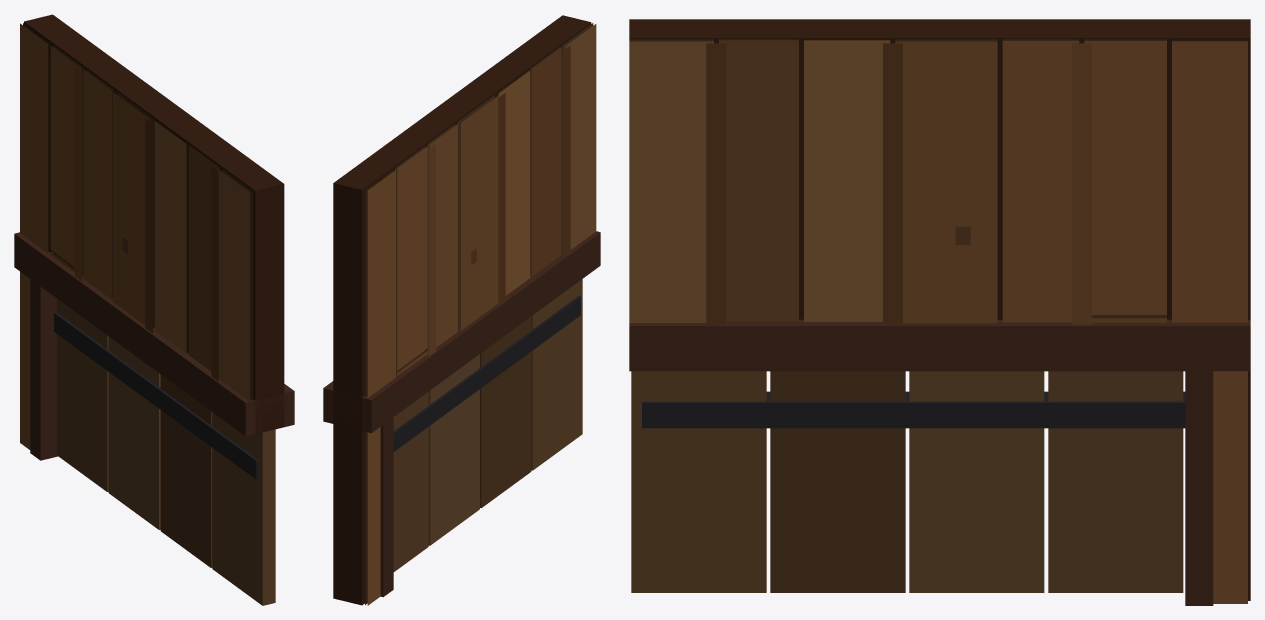
File: wall-timber-door-shut-high-l.glb
3 renders of one model, left to right at view 1: azimuth 30°, elevation 25°; view 2: azimuth 150°, elevation 25°; view 3: azimuth 270°, elevation 25°, orthographic. The views are drawn at different scales.
Visible parts, largest first — view 1: wall-timber-door-shut-high-l; view 2: wall-timber-door-shut-high-l; view 3: wall-timber-door-shut-high-l.
Boxes of the visible parts, x1,y1,x2,y2 form: wall-timber-door-shut-high-l: [14, 14, 294, 605]; wall-timber-door-shut-high-l: [323, 15, 600, 605]; wall-timber-door-shut-high-l: [629, 19, 1250, 605].
Size of the model in its own units: 0.122 by 1 by 1.
